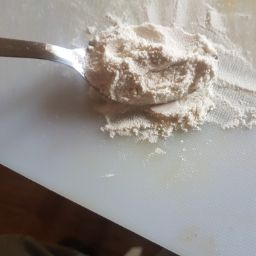Plain flour: (63, 18, 224, 131), (101, 38, 215, 120)
